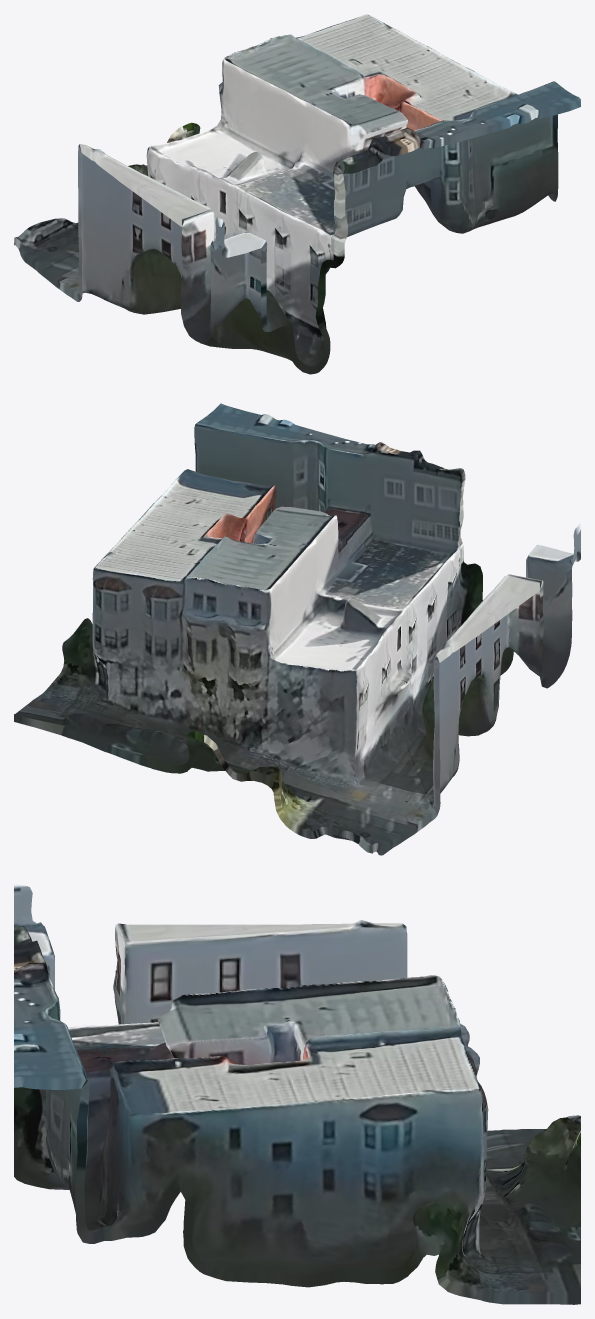
The model's file is z20-167749-405195-h0-yup-uvflip-v3-world.glb.
3 renders of one model, top to bottom at view 1: azimuth 30°, elevation 25°; view 2: azimuth 150°, elevation 25°; view 3: azimuth 270°, elevation 25°, orthographic. The views are drawn at different scales.
Bounding box in the file's own units: 30.2 × 18.24 × 30.32.
1 material, 1 textured.
